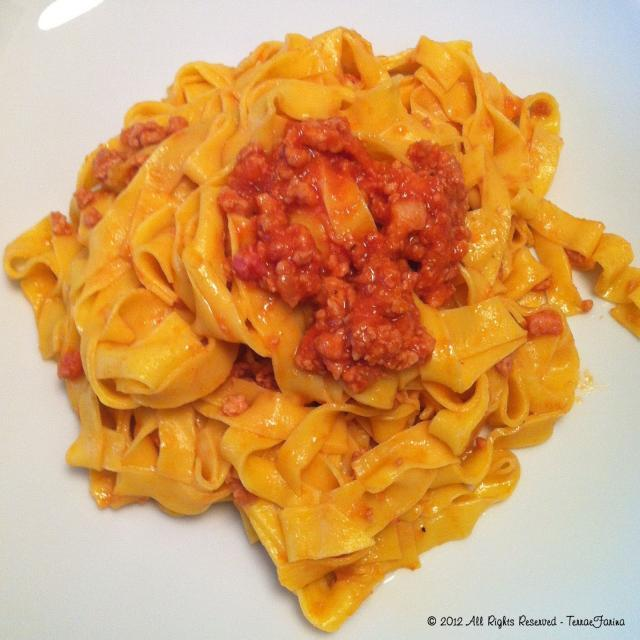Pasta al ragu: (26, 27, 608, 549)
